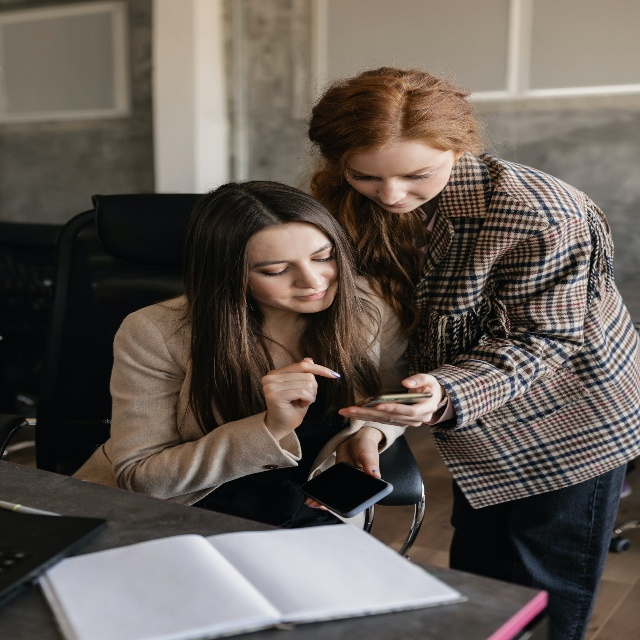Sin_guantes: (337, 362, 446, 431), (260, 351, 341, 432)
